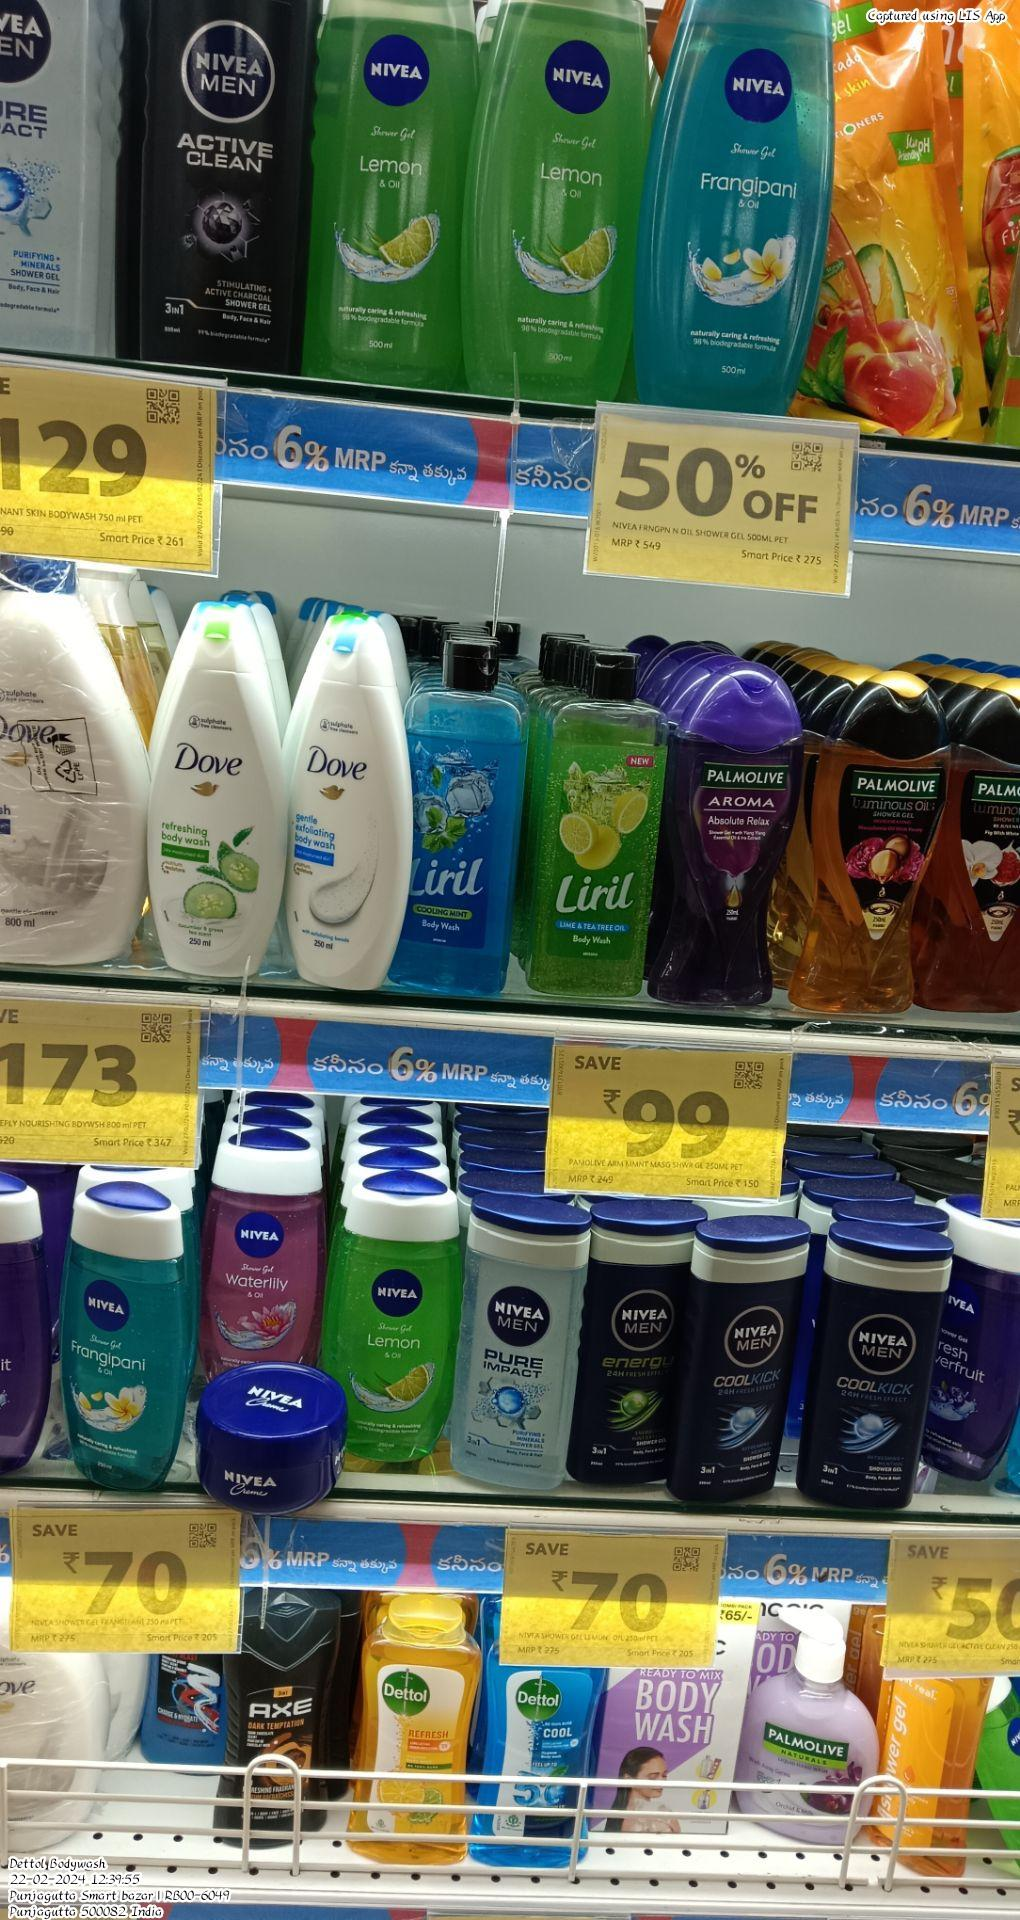Dettol_Bodywash_Cool: (475, 1650, 603, 1891)
Dettol_Bodywash_Refresh: (356, 1601, 470, 1867)
Dove_Gentle_Exfoliating_Body_Wash_250ML: (279, 631, 406, 990)
Dove_Refreshing_Body_Wash_250ML: (140, 597, 269, 980)
Nivea_Shower_Gel_Frangipani_and_Oil_250ML: (650, 0, 832, 413), (61, 1192, 180, 1492)
Nivea_Shower_Gel_Lemon_and_Oil_250ML: (470, 0, 653, 406), (314, 0, 457, 400), (324, 1192, 452, 1469)
Nivea_Shower_Gel_Waterlily_and_Oil_250ML: (207, 1135, 314, 1360)
Palmolive_Aroma_Relax_250ML: (673, 664, 789, 1002)
Palmolive_Luminous_Oils_Invigorating_Macadamia_Oil_With_Peony_250ML: (812, 677, 920, 1013), (941, 687, 1020, 1017)
